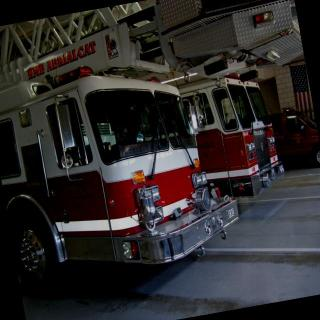Fire_truck: (0, 25, 218, 306), (170, 50, 306, 230)
